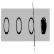correct: (40, 16, 47, 36)
